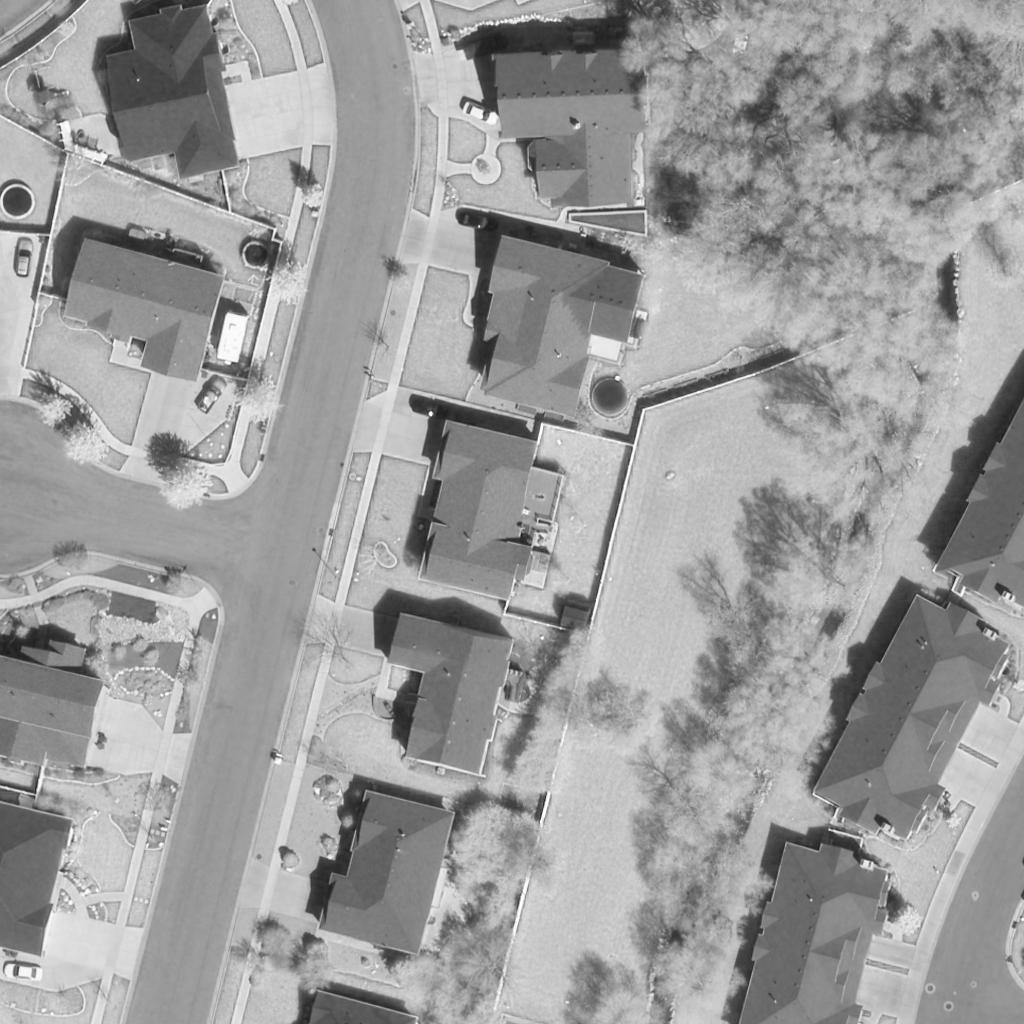vehicle: (215, 310, 249, 368), (195, 378, 227, 414), (1, 961, 43, 983), (462, 101, 500, 125), (456, 211, 500, 231), (14, 238, 32, 278)
